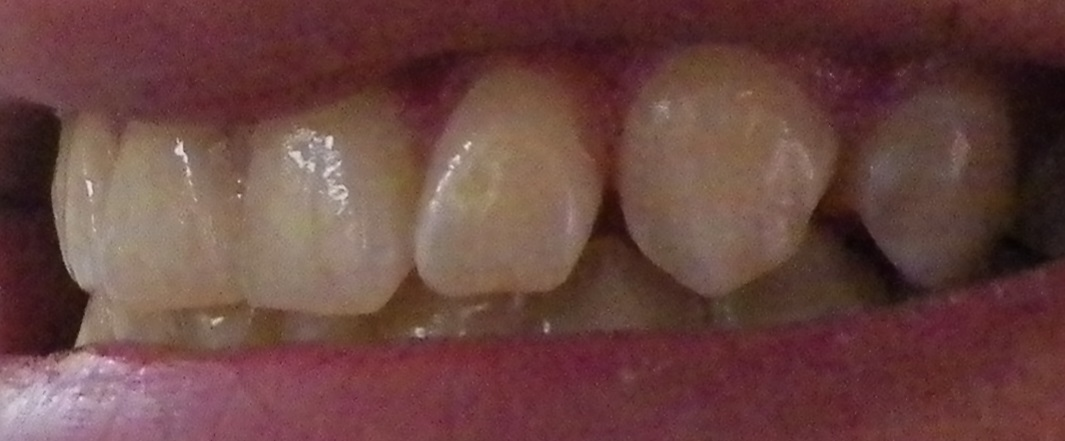boca: (56, 52, 1052, 367)
